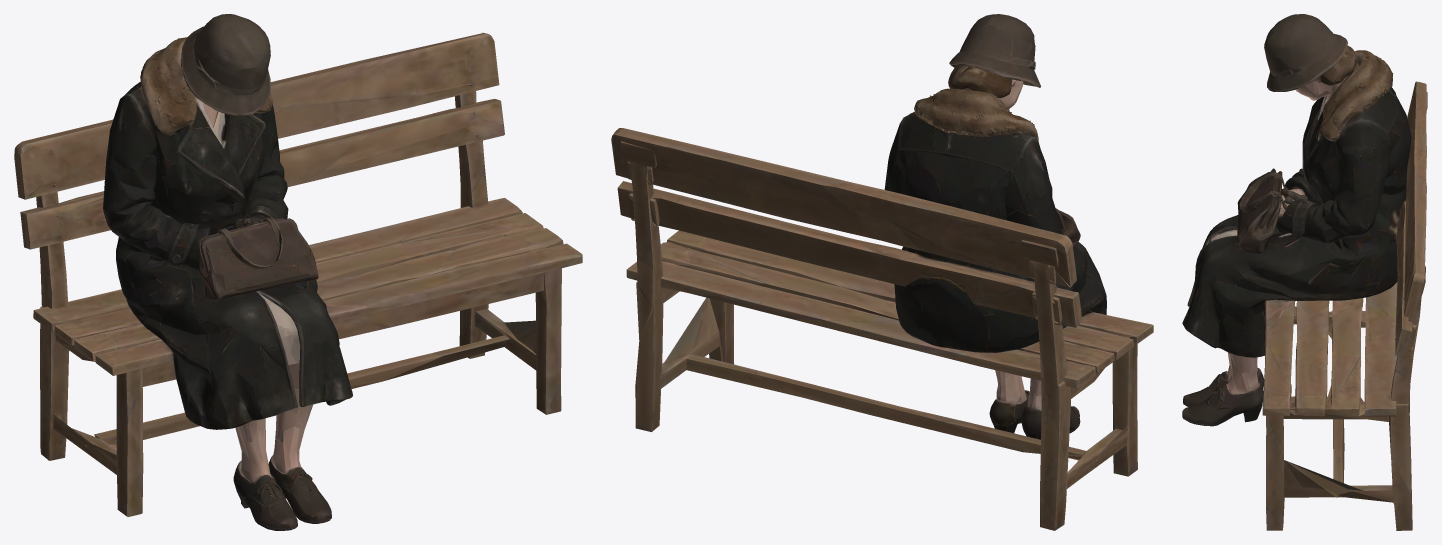
File: passenger_b.glb
3 renders of one model, left to right at view 1: azimuth 30°, elevation 25°; view 2: azimuth 150°, elevation 25°; view 3: azimuth 270°, elevation 25°, orthographic. The views are drawn at different scales.
Parts seen in each view (by area): view 1: Mesh_0; view 2: Mesh_0; view 3: Mesh_0.
Part boxes in pixels (bbox=[...]): Mesh_0: bbox=[14, 14, 582, 530]; Mesh_0: bbox=[611, 14, 1153, 530]; Mesh_0: bbox=[1182, 14, 1427, 530].
Size of the model in its own units: 1.9 by 1.77 by 1.01.
Materials: 1 (1 with a texture image).
